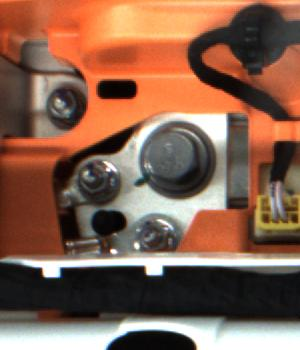nut_b: (138, 121, 213, 193)
screw_s: (71, 158, 114, 201), (41, 90, 87, 130), (130, 221, 179, 253)
